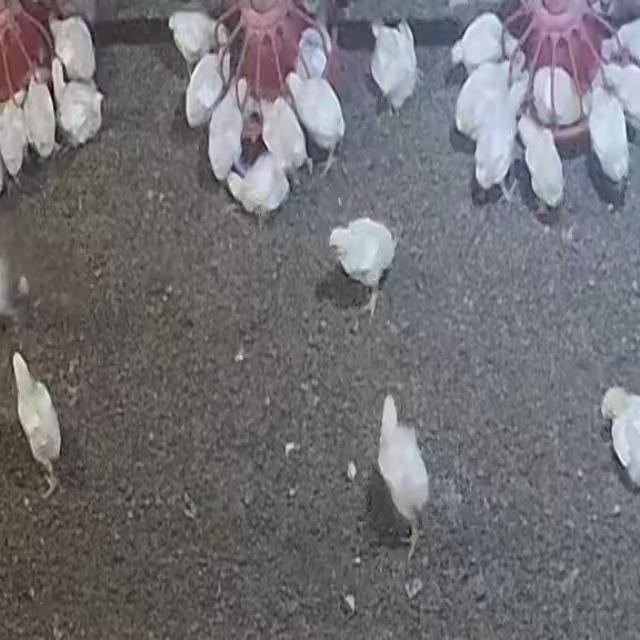chicken: (373, 395, 432, 552), (12, 352, 63, 499), (287, 68, 345, 176), (477, 85, 526, 196), (330, 219, 396, 296), (518, 115, 568, 210), (369, 16, 418, 110), (227, 154, 295, 218), (206, 80, 247, 186), (588, 84, 630, 186), (456, 63, 509, 137), (265, 89, 308, 180), (603, 384, 640, 489), (450, 17, 512, 71), (51, 15, 97, 85), (56, 80, 104, 147), (185, 53, 225, 127), (23, 74, 58, 158), (167, 9, 216, 67), (532, 72, 582, 128), (603, 60, 640, 128), (0, 97, 27, 182), (290, 25, 331, 79), (599, 17, 640, 59)
